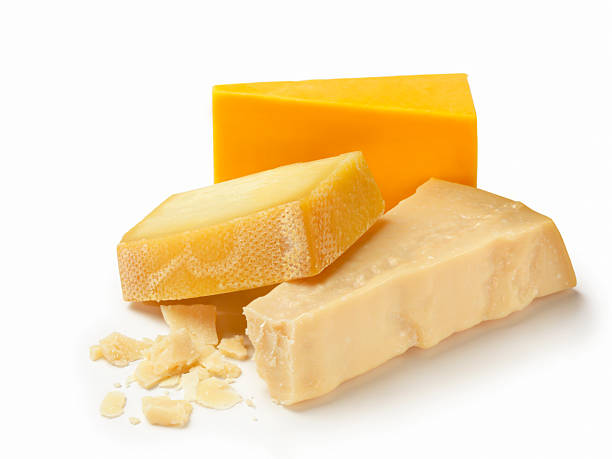Cheese: (238, 172, 581, 414), (114, 148, 389, 304), (208, 71, 480, 222), (150, 301, 225, 366), (134, 327, 195, 392), (83, 323, 154, 371), (137, 391, 199, 433), (191, 374, 242, 413), (197, 345, 244, 383), (214, 329, 254, 362), (95, 387, 128, 422)
